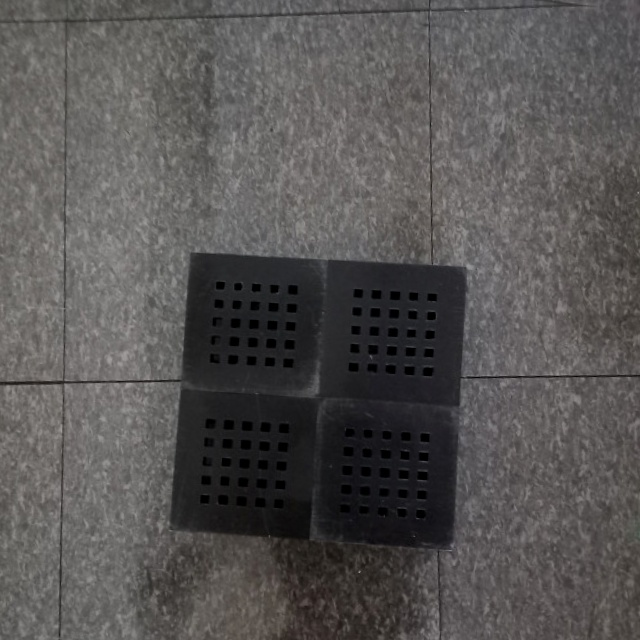pallet: (164, 245, 470, 557)
